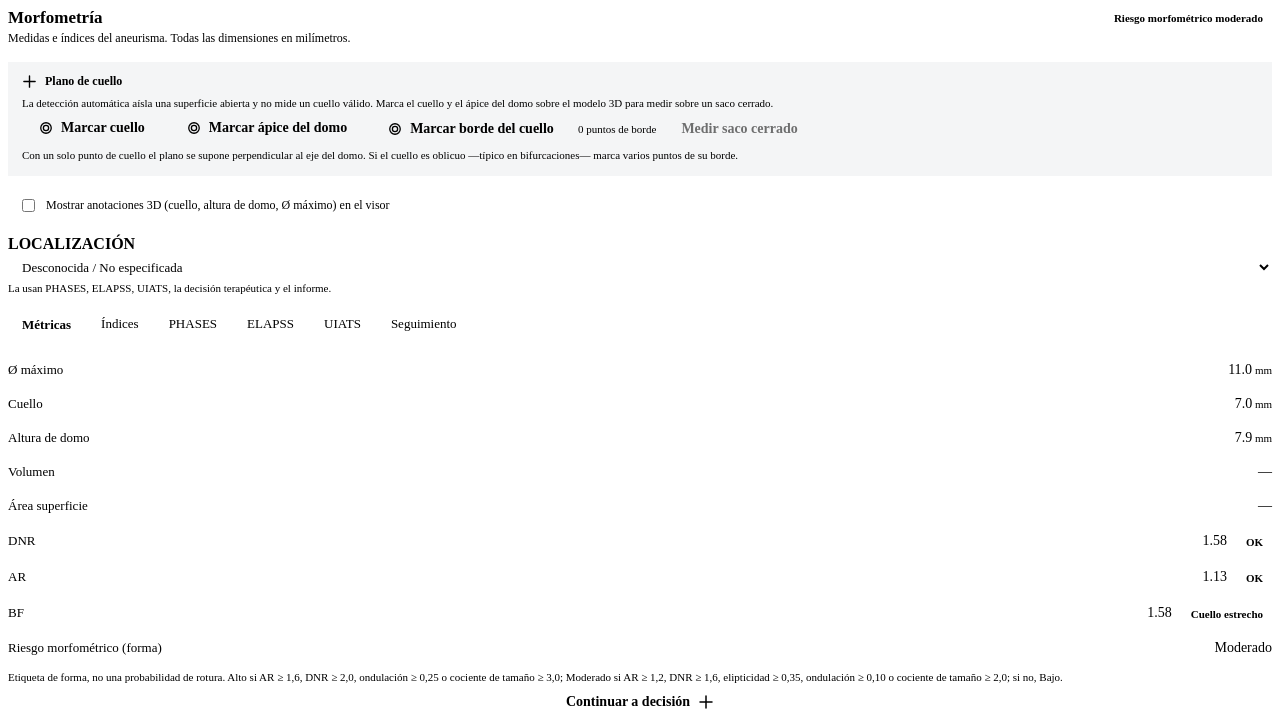
la pestaña PHASES › dice junto a la cifra que es una referencia poblacional
The width and height of the screenshot is (1280, 719).
Click the button "PHASES" at (193, 325), box [155,308,231,342]
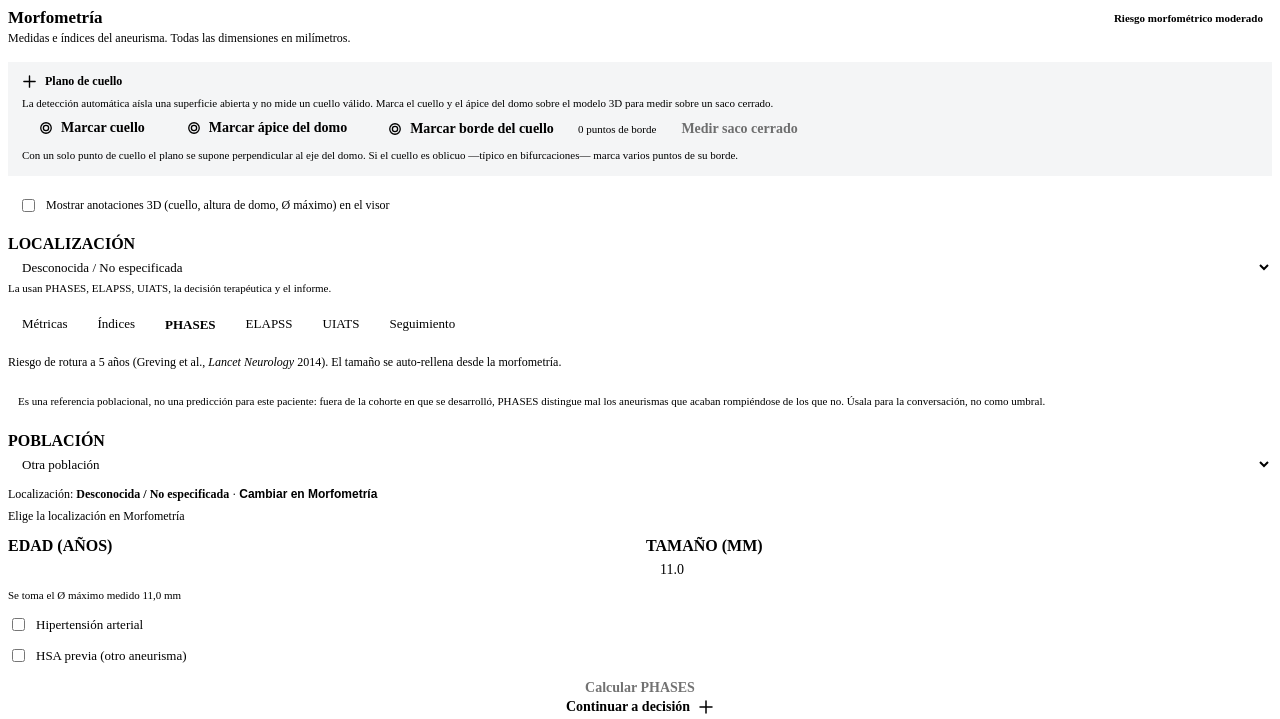
Expected: the text "referencia poblacional, no una predicción" is shown, [18,395,1045,407]
